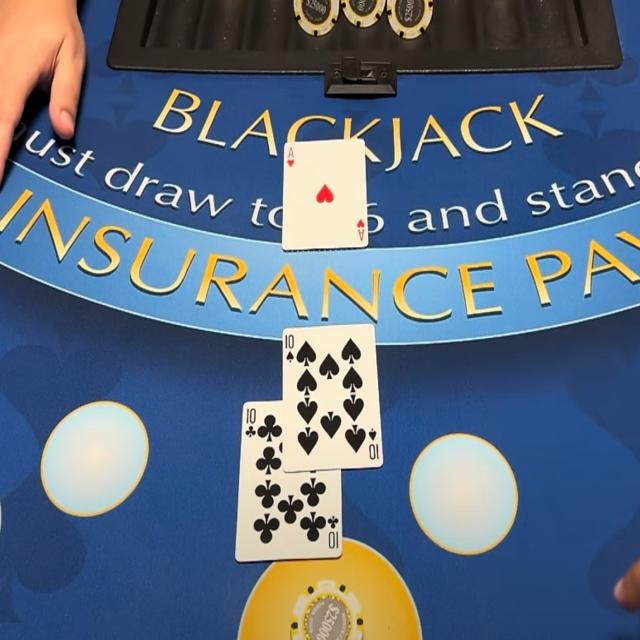10: (245, 406, 257, 426), (283, 333, 296, 350)
A: (286, 145, 296, 159)
